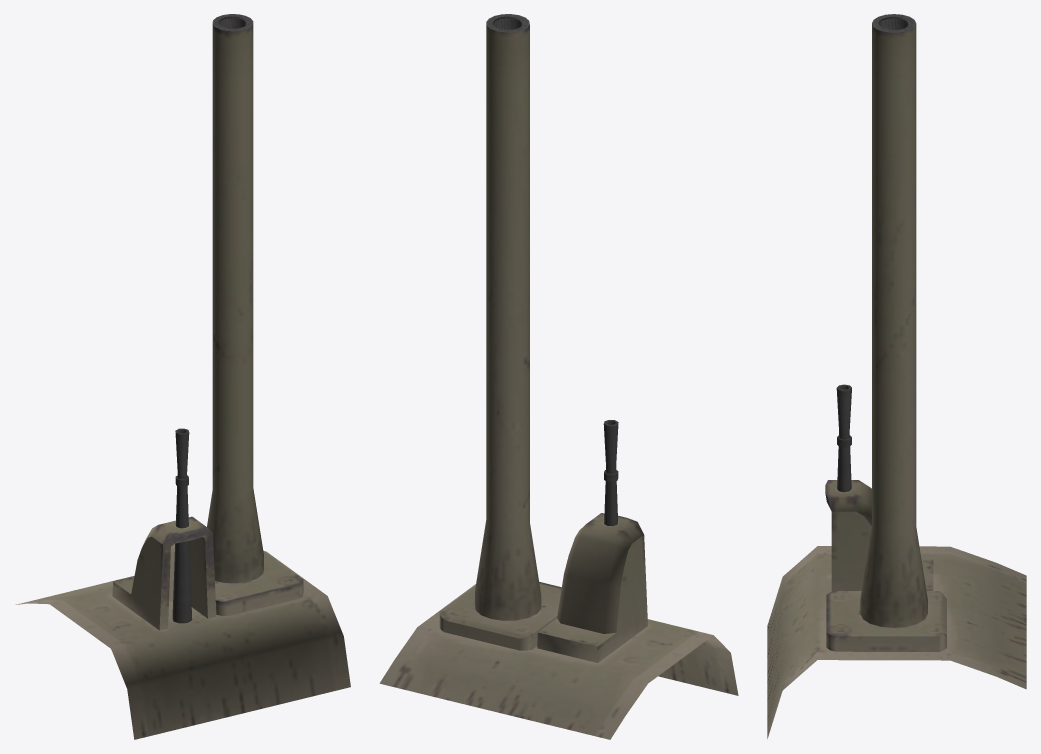
The model's file is Gun_03.glb.
3 views of the same model, side by side, from view 1: azimuth 30°, elevation 25°; view 2: azimuth 150°, elevation 25°; view 3: azimuth 270°, elevation 25° (orthographic). The views are drawn at different scales.
Visible parts, largest first — view 1: set_0_group_0; view 2: set_0_group_0; view 3: set_0_group_0.
Part boxes in pixels (box(x1,y1,x2,y2)): set_0_group_0: box(15, 14, 350, 739); set_0_group_0: box(379, 14, 738, 739); set_0_group_0: box(767, 14, 1026, 738).
Bounding box in the file's own units: 0.5352 × 1.5 × 0.5146.
Materials: 1 (1 with a texture image).
